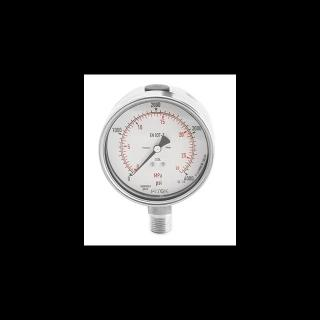gauge: (92, 90, 216, 208), (176, 166, 193, 182), (125, 167, 139, 183), (153, 145, 161, 153), (132, 172, 135, 177)
